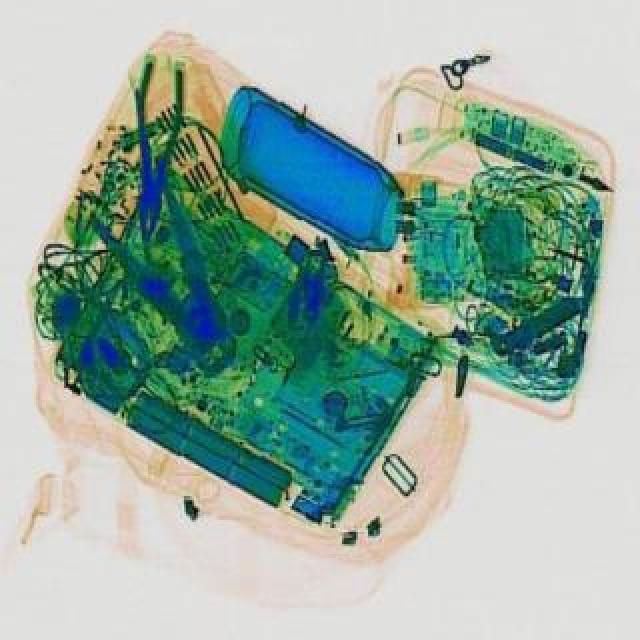wrench: (78, 172, 264, 394), (120, 66, 186, 246)
